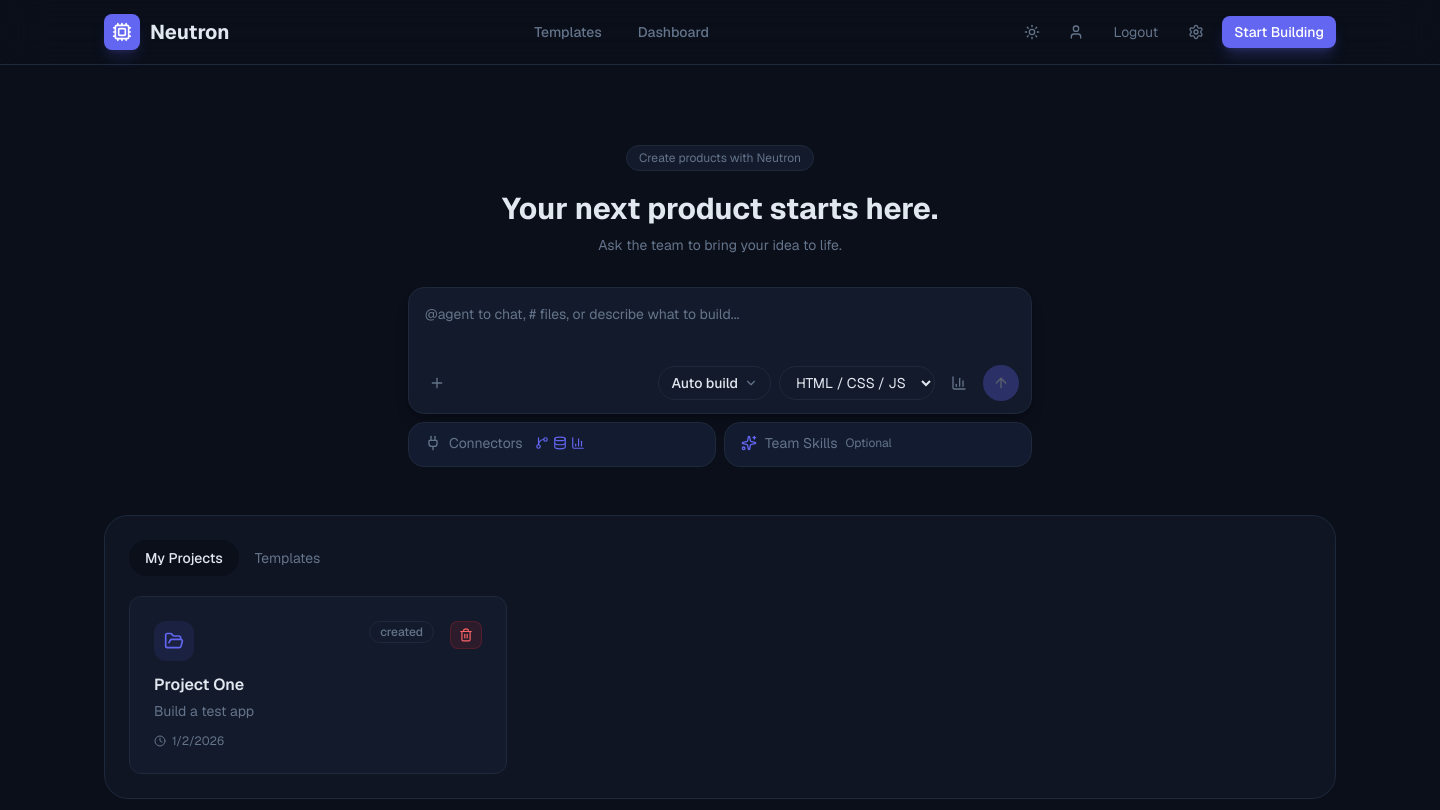
app pages › keeps dashboard delete dialog open after a delete error
This screenshot has width=1440, height=810.
Expected: the heading "Project One" is shown, x1=154 y1=674 x2=244 y2=695
Step 1. Click the button named "Delete Project One" → {"x": 466, "y": 635}, box x1=450 y1=621 x2=482 y2=649
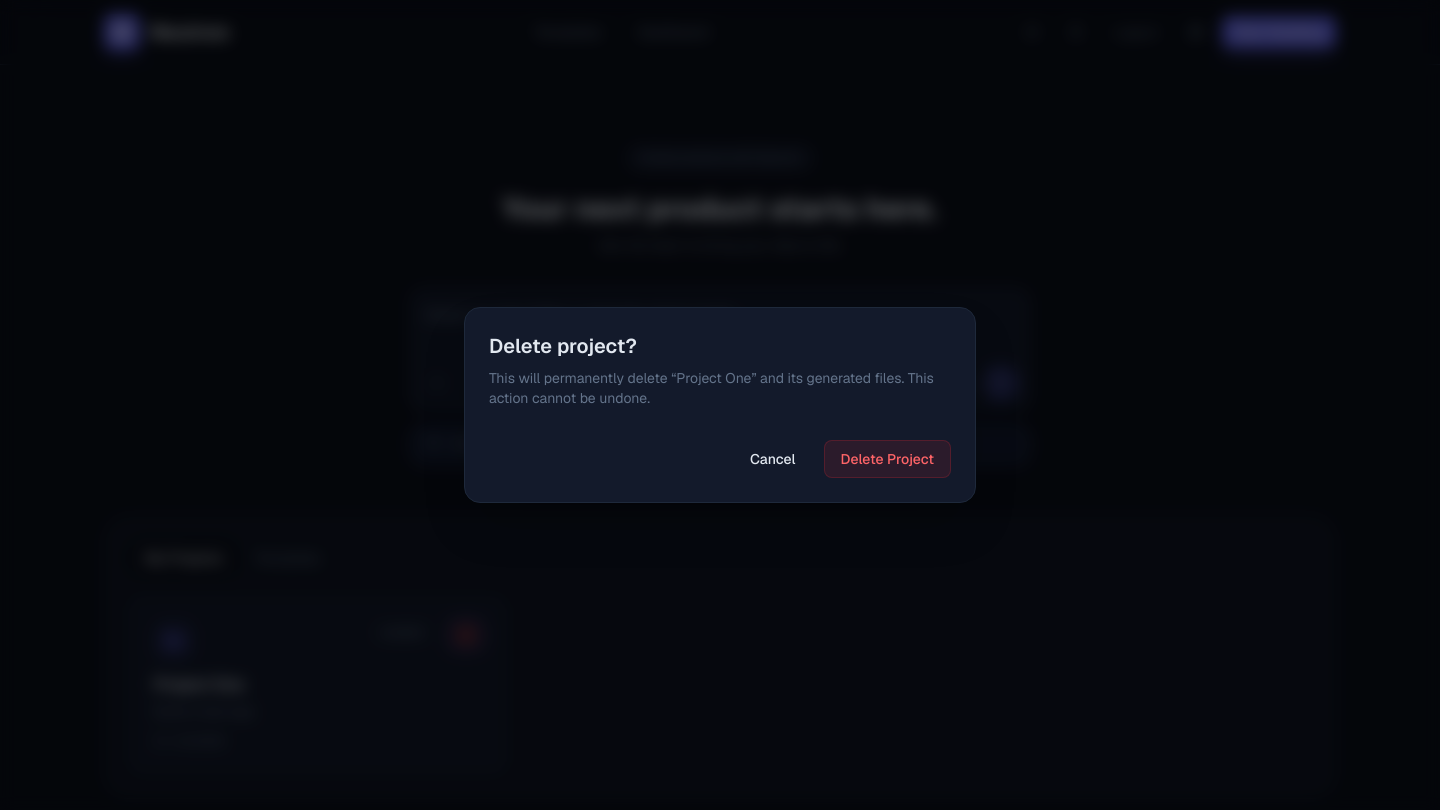
Step 2. Click the button "Delete Project" → {"x": 887, "y": 459}, box x1=824 y1=440 x2=951 y2=478
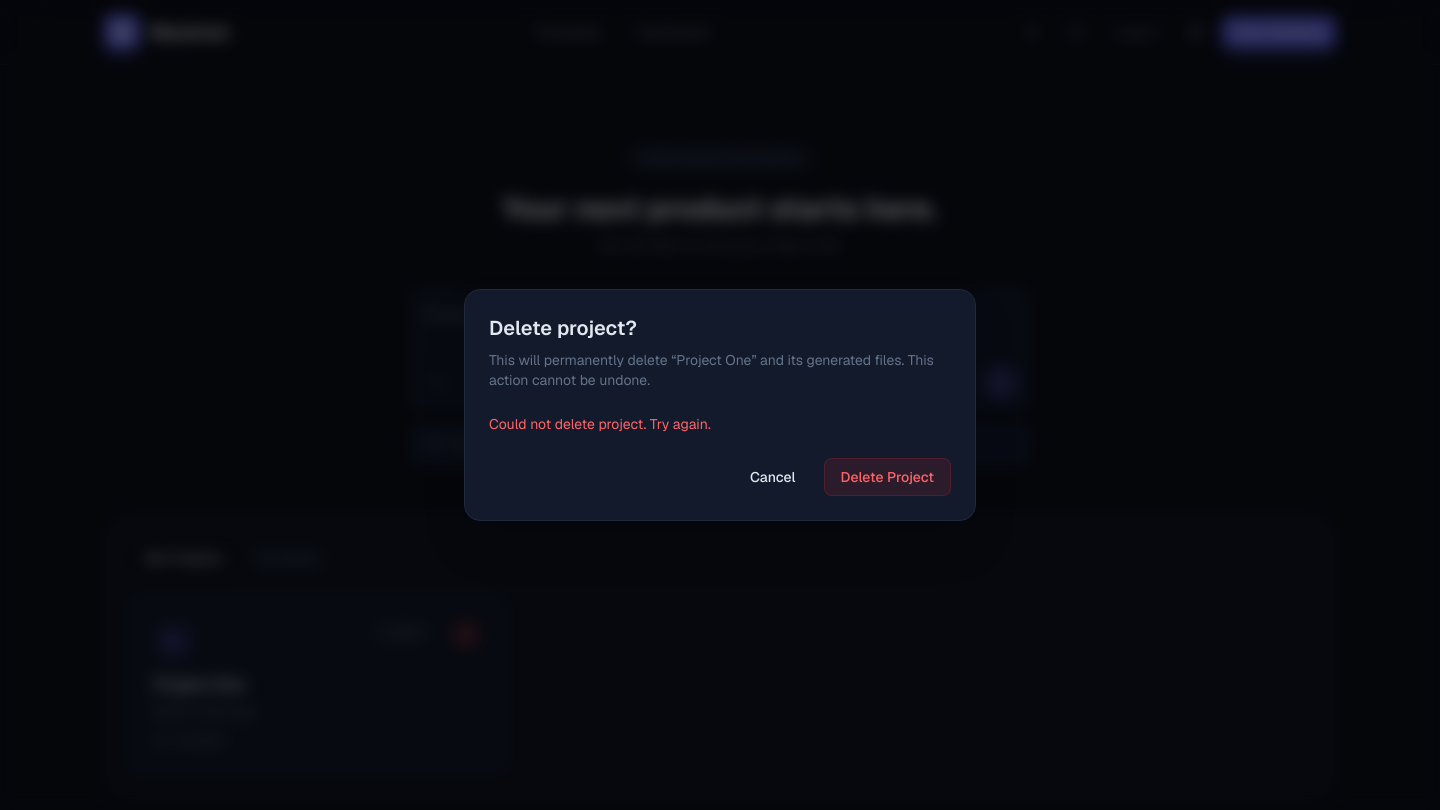
Expected: the text "Could not delete project. Try again." is shown, x1=489 y1=415 x2=711 y2=433
